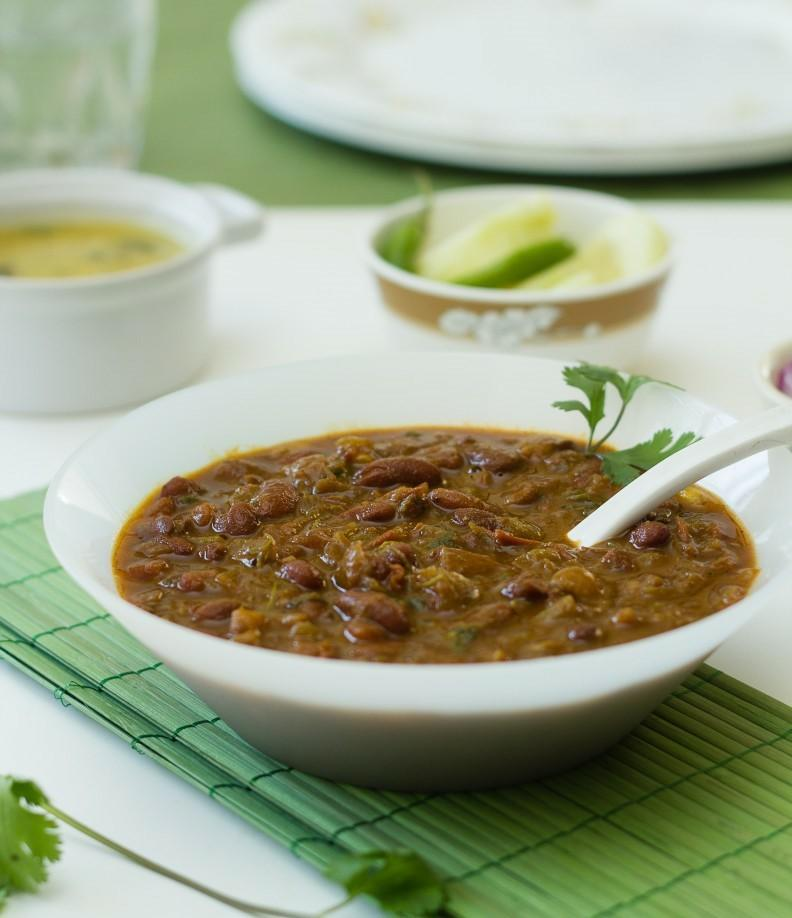RajmaCurry: (113, 424, 752, 662)
